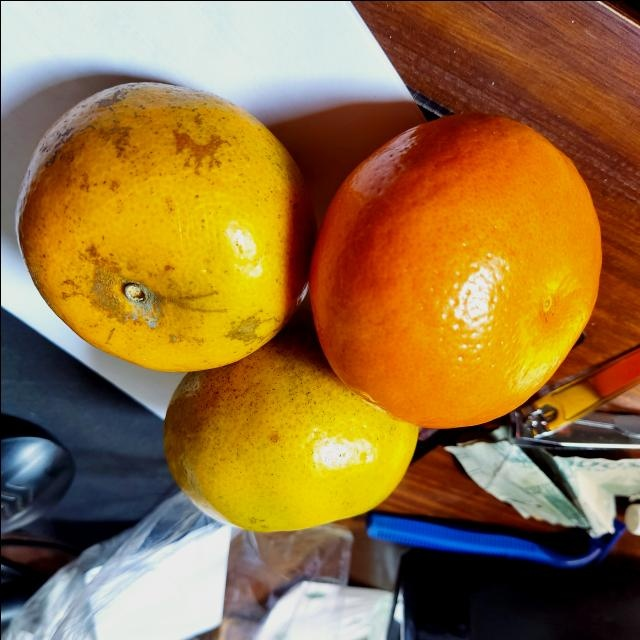agrume: (17, 83, 315, 373), (162, 346, 414, 535)
